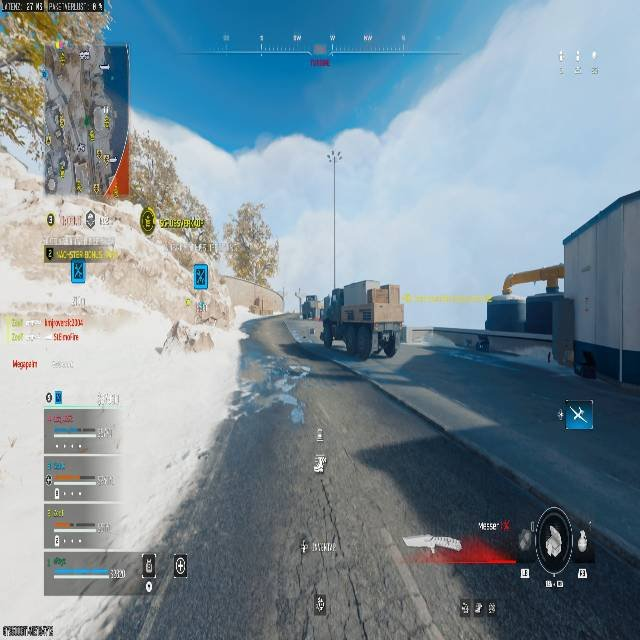player: (300, 294, 317, 329)
